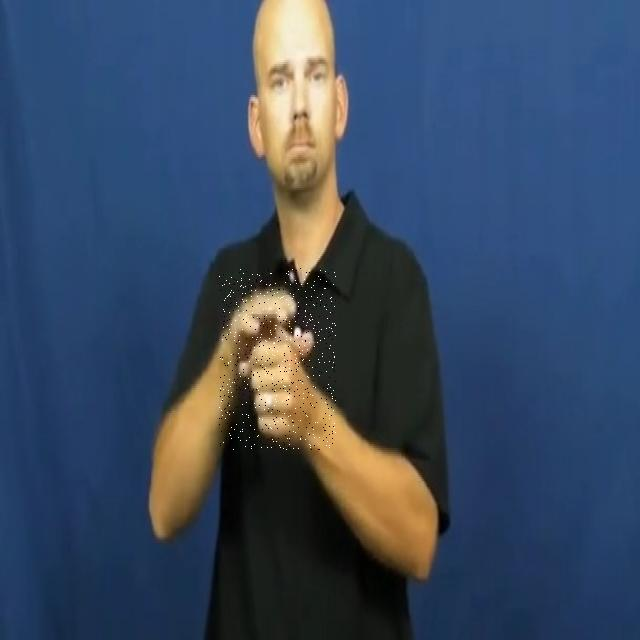soda: (219, 268, 336, 450)
